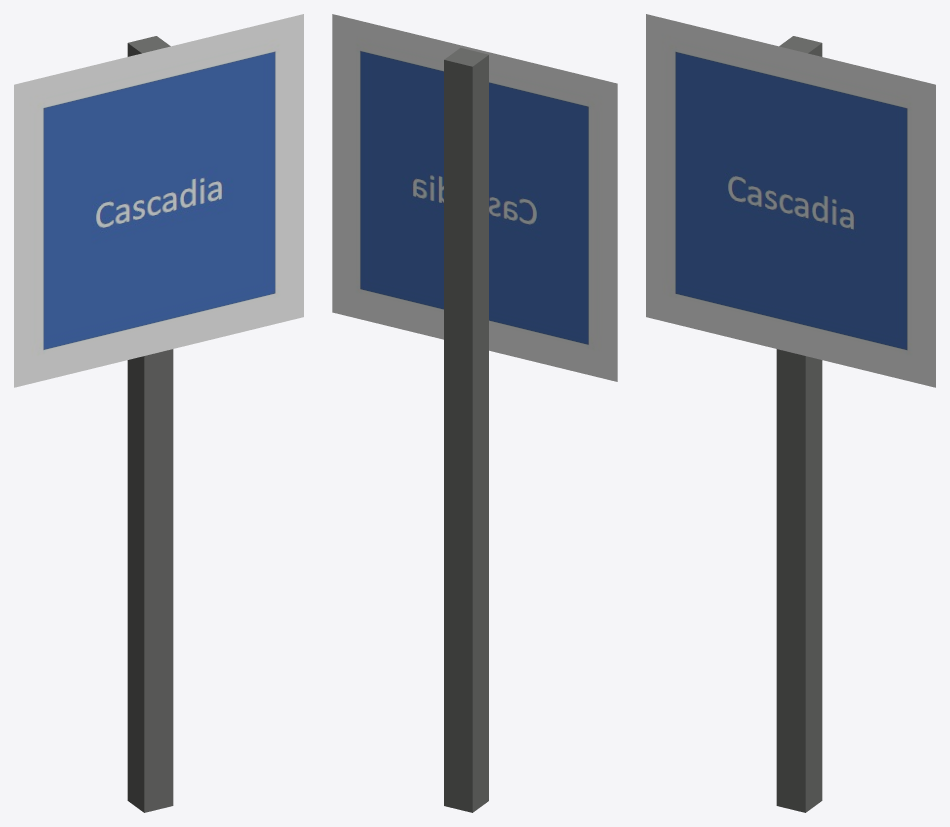
Rendered from letrero-cascadia.fbx.
3 renders of one model, left to right at view 1: azimuth 30°, elevation 25°; view 2: azimuth 150°, elevation 25°; view 3: azimuth 330°, elevation 25°, orthographic.
Parts seen in each view (by area): view 1: Plane, Cube; view 2: Plane, Cube; view 3: Plane, Cube.
Boxes of the visible parts, x1,y1,x2,y2 form: Plane: [14, 14, 303, 387]; Cube: [127, 36, 173, 812]; Plane: [332, 14, 617, 381]; Cube: [444, 47, 488, 812]; Plane: [646, 14, 935, 387]; Cube: [776, 36, 822, 812].
Size of the model in its own units: 200 by 502 by 20.18.
Materials: 2 (1 with a texture image).
